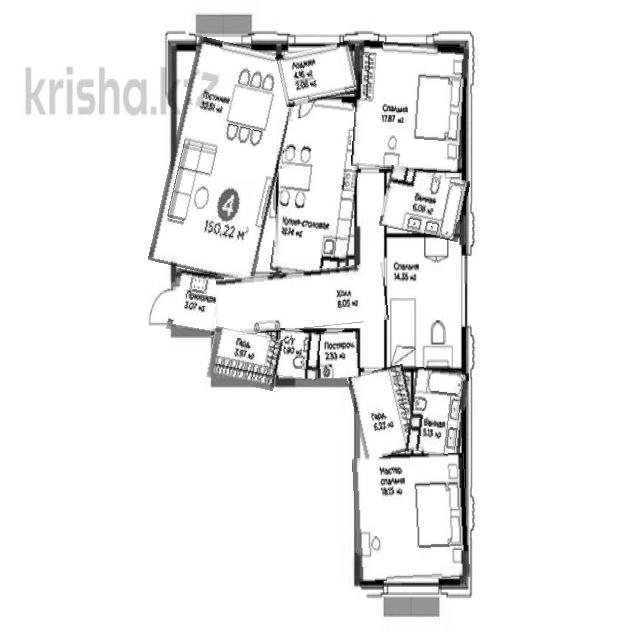balcony: (279, 43, 359, 104)
bathroom: (381, 169, 468, 239), (409, 368, 467, 456), (276, 329, 320, 379), (318, 330, 360, 378)
hallway: (217, 267, 388, 333), (168, 270, 222, 336)
kitchen: (275, 98, 361, 278)
living_room: (160, 41, 292, 279), (353, 42, 467, 172), (354, 454, 468, 582), (386, 232, 465, 371)
other: (352, 367, 418, 458), (208, 329, 281, 388)
